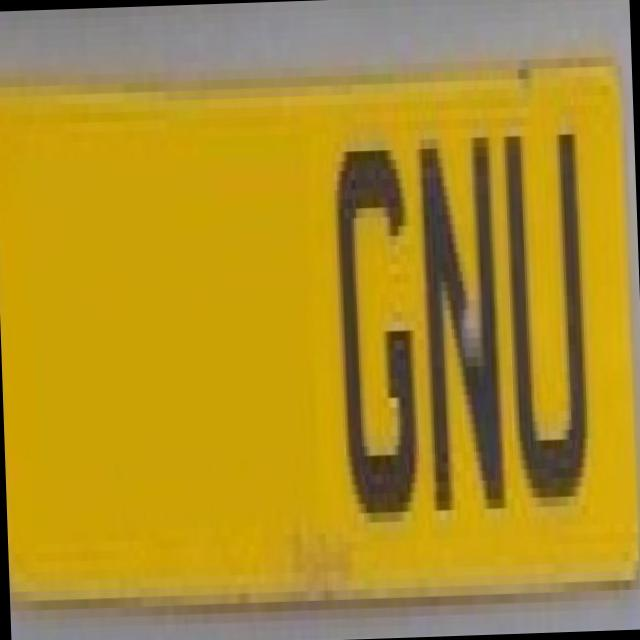LicensePlate: (0, 37, 640, 628)
